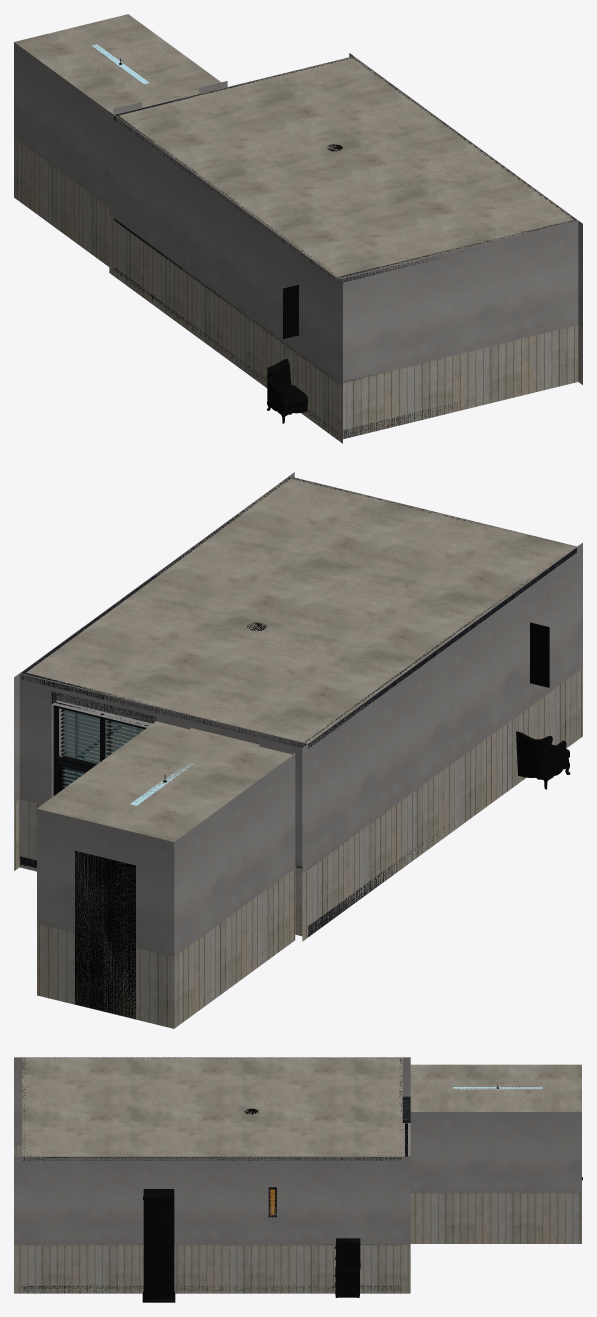
File: env_office.glb
3 renders of one model, top to bottom at view 1: azimuth 30°, elevation 25°; view 2: azimuth 150°, elevation 25°; view 3: azimuth 270°, elevation 25°, orthographic. The views are drawn at different scales.
Parts seen in each view (by area): view 1: SHELL, PROPS; view 2: SHELL, PROPS; view 3: SHELL, PROPS.
Part boxes in pixels (x1=…): SHELL: x1=14, y1=14, x2=582, y2=443; PROPS: x1=92, y1=44, x2=342, y2=423; SHELL: x1=14, y1=472, x2=582, y2=1028; PROPS: x1=53, y1=622, x2=570, y2=1018; SHELL: x1=14, y1=1057, x2=581, y2=1293; PROPS: x1=142, y1=1083, x2=582, y2=1302.
Bounding box in the file's own units: 5.03 × 2.7 × 10.16.
9 materials, 9 textured.
